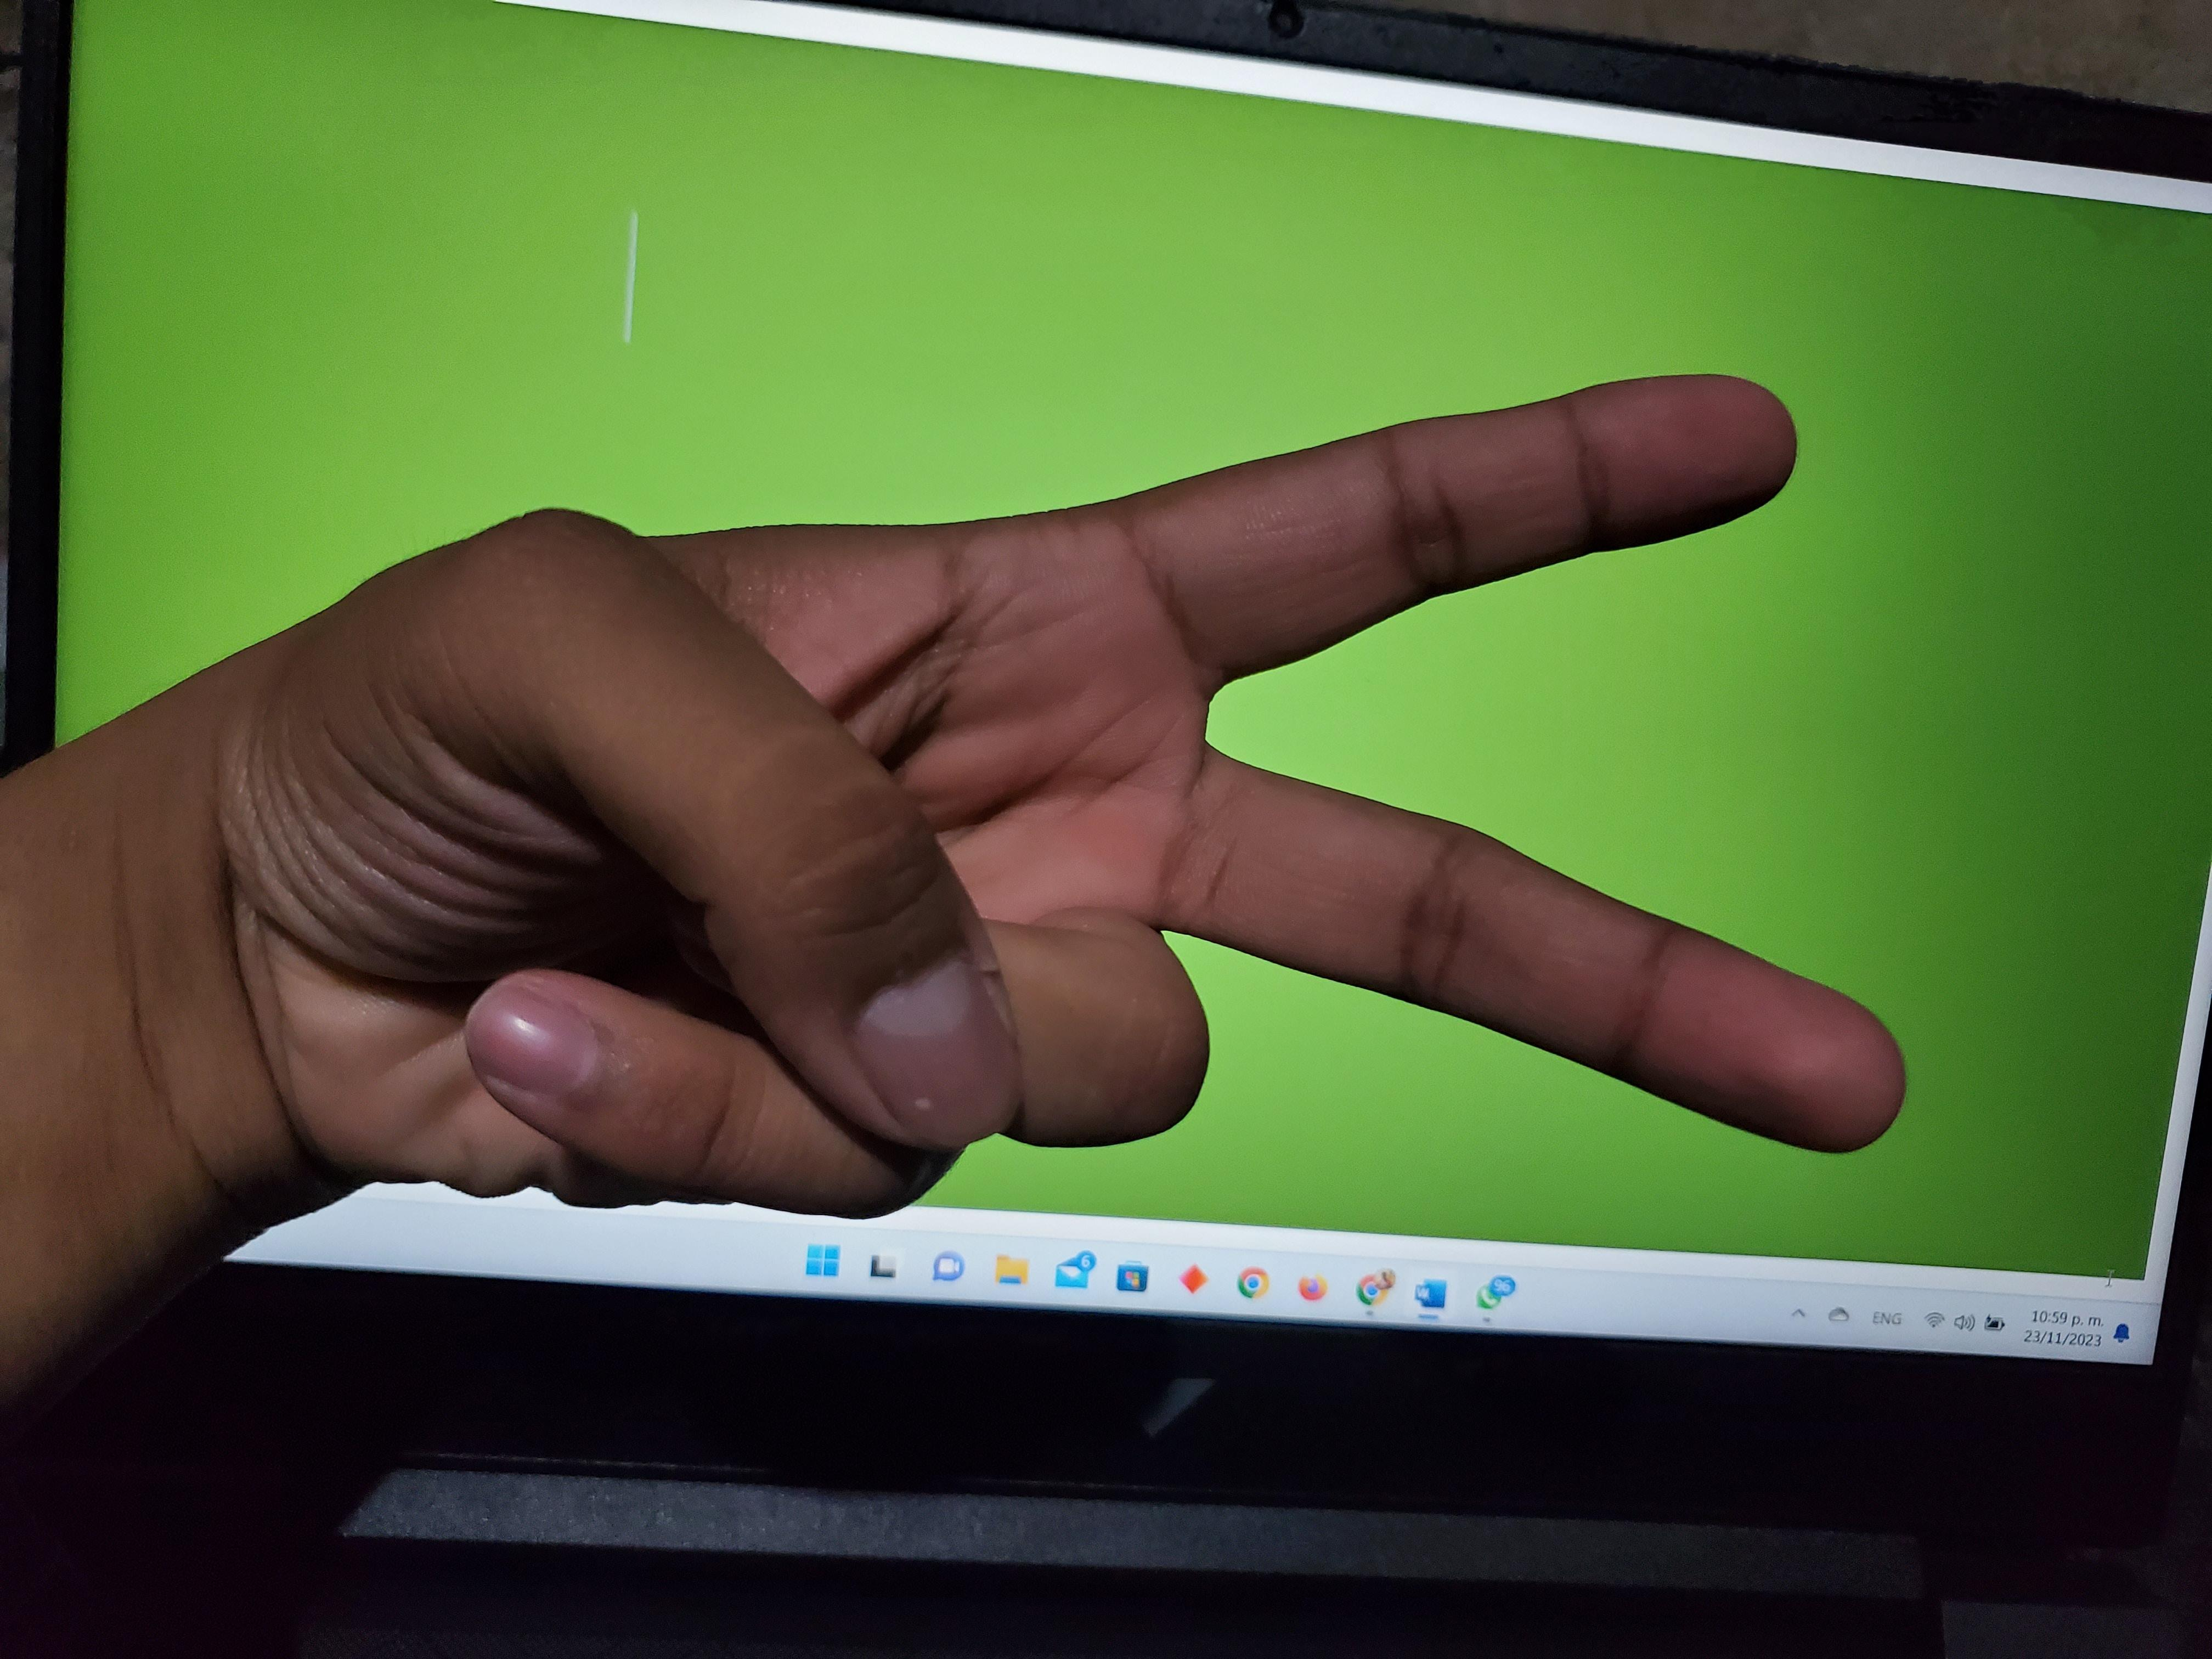Scissor: (23, 23, 2209, 1431)
